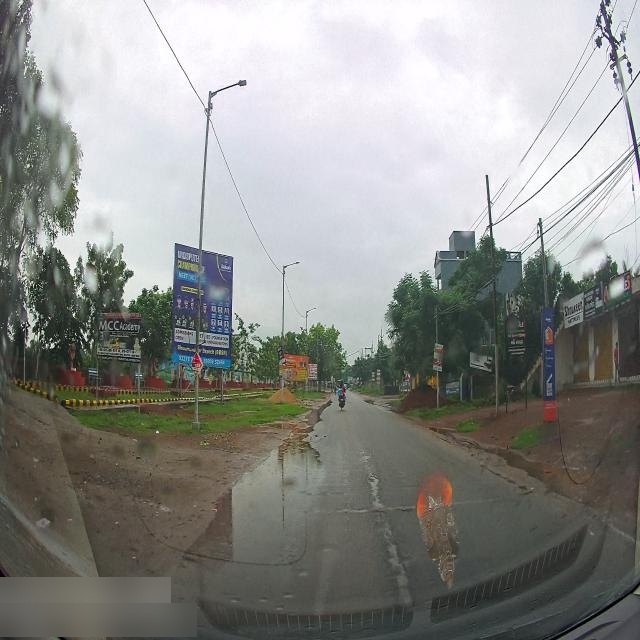pothole: (217, 430, 333, 551), (496, 441, 555, 488)
